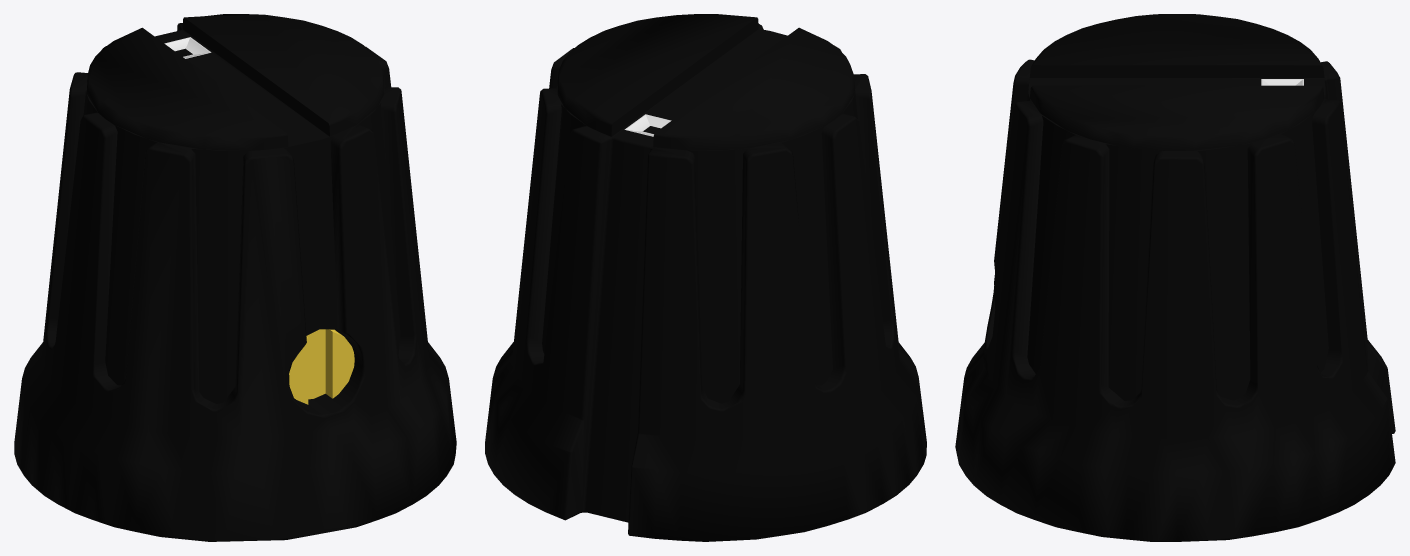
File: knob_std.glb
The picture shows the model from 3 angles, left to right: view 1: azimuth 30°, elevation 25°; view 2: azimuth 150°, elevation 25°; view 3: azimuth 270°, elevation 25°; orthographic projection.
Parts seen in each view (by area): view 1: Solid1, Solid3; view 2: Solid1; view 3: Solid1.
Boxes of the visible parts, x1,y1,x2,y2 form: Solid1: (14, 14, 456, 541); Solid3: (289, 329, 354, 404); Solid1: (485, 14, 926, 541); Solid1: (955, 14, 1395, 541).
Bounding box in the file's own units: 0.0157 × 0.0146 × 0.0156.
